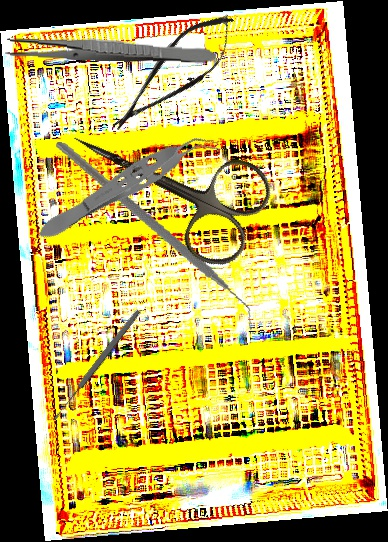Chopper: (32, 141, 276, 331)
Dressing Forceps: (4, 35, 216, 65)
Iris Scissors: (50, 86, 280, 277)
Micro Scissor: (98, 0, 250, 147)
Surgical Spoon: (50, 307, 143, 423)
Tissue Forceps: (30, 119, 225, 251)
